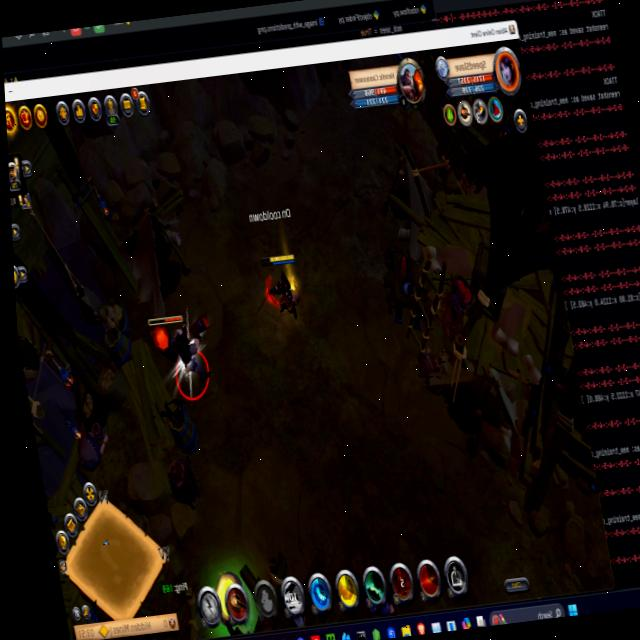fiber: (205, 562, 254, 640)
ore: (144, 302, 222, 408)
red: (259, 248, 309, 327)
